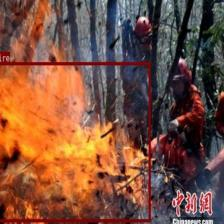fire: (0, 62, 150, 222)
